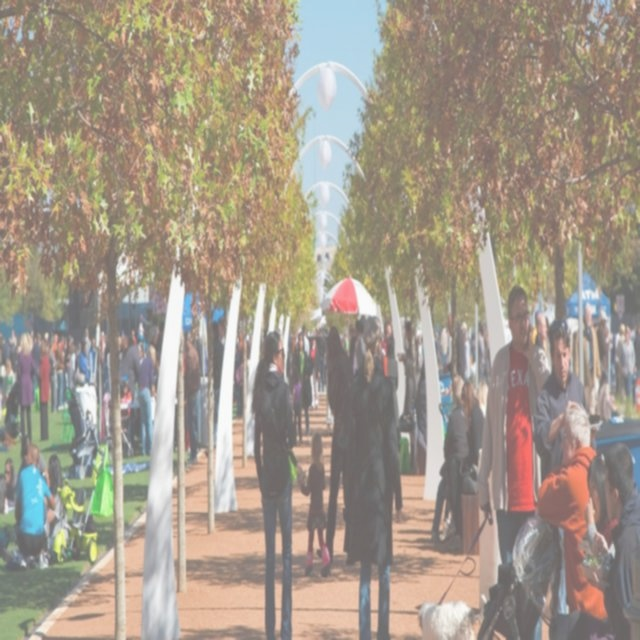pessoa: (477, 282, 552, 639), (342, 308, 402, 639), (535, 398, 610, 628), (532, 316, 588, 620), (247, 323, 300, 639), (400, 304, 492, 484), (0, 312, 118, 414), (582, 439, 640, 639), (178, 308, 252, 452), (316, 323, 355, 567), (564, 294, 640, 412), (438, 376, 485, 543), (428, 374, 472, 548), (0, 458, 59, 574), (286, 310, 362, 393), (296, 426, 336, 582), (12, 442, 56, 574), (584, 454, 618, 572), (574, 302, 602, 407), (16, 330, 38, 455), (182, 329, 202, 465), (44, 451, 70, 551), (136, 343, 156, 458), (296, 331, 314, 444), (211, 319, 225, 454), (118, 339, 146, 404), (530, 307, 554, 374), (117, 308, 161, 344), (378, 315, 399, 390), (36, 337, 50, 442), (619, 322, 636, 398), (292, 366, 304, 447), (3, 457, 17, 508)
